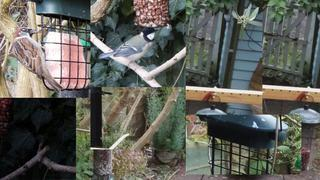great tit: (98, 27, 159, 72)
sparrow: (12, 27, 64, 93)
